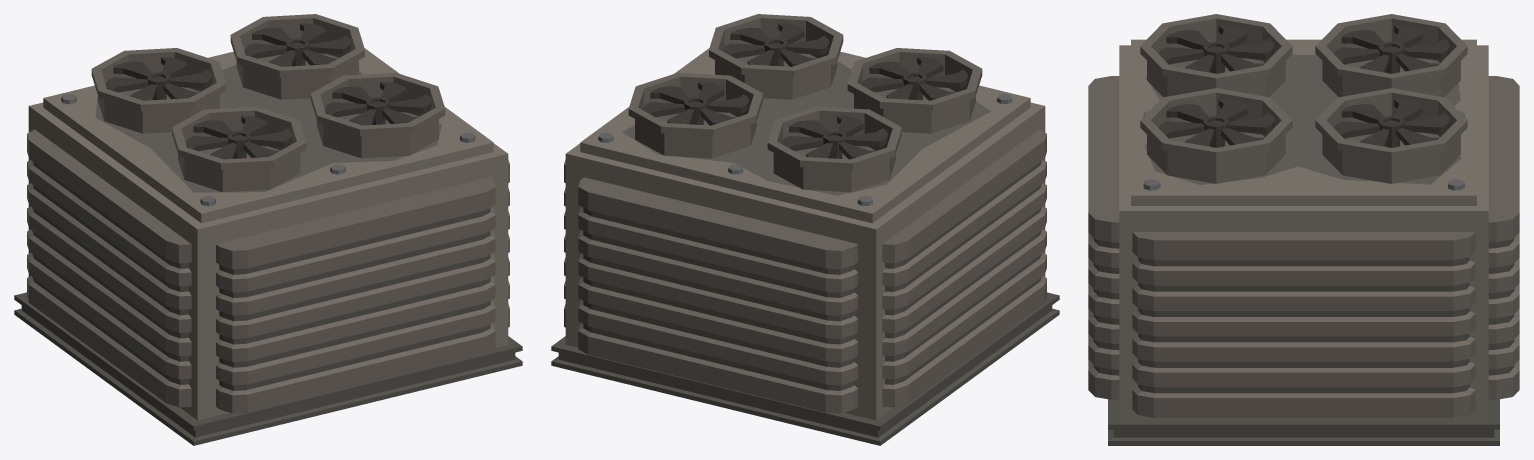
The model's file is SM_Props_Industrial_Equipment_03.fbx.
The picture shows the model from 3 angles, left to right: view 1: azimuth 30°, elevation 25°; view 2: azimuth 150°, elevation 25°; view 3: azimuth 270°, elevation 25°; orthographic projection. The views are drawn at different scales.
Visible parts, largest first — view 1: SM_Props_Industrial_Equipment_03; view 2: SM_Props_Industrial_Equipment_03; view 3: SM_Props_Industrial_Equipment_03.
Part boxes in pixels (bbox=[...]): SM_Props_Industrial_Equipment_03: bbox=[14, 14, 522, 445]; SM_Props_Industrial_Equipment_03: bbox=[551, 14, 1059, 445]; SM_Props_Industrial_Equipment_03: bbox=[1088, 14, 1519, 445].
Size of the model in its own units: 374 by 263 by 374.
